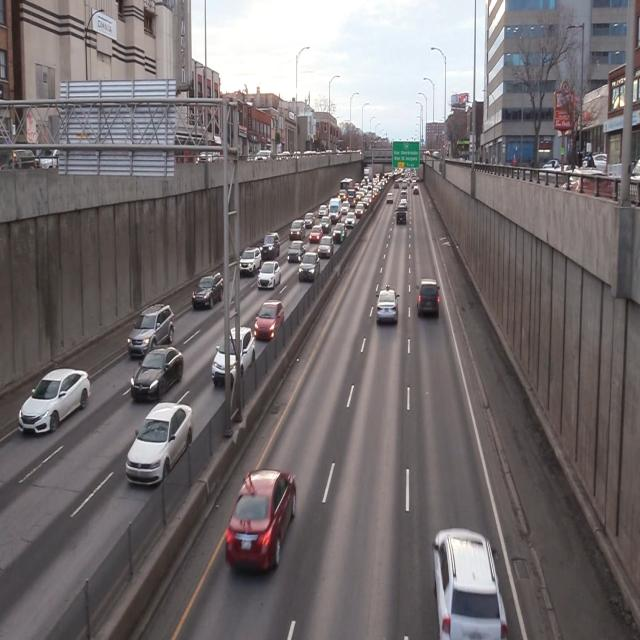Car: (431, 528, 508, 640), (225, 467, 298, 576), (125, 402, 196, 492), (20, 366, 90, 442), (130, 346, 186, 402), (130, 300, 176, 362), (212, 327, 256, 388), (250, 295, 286, 343), (193, 270, 224, 315), (416, 274, 442, 322), (378, 287, 400, 325), (258, 255, 283, 287), (241, 244, 262, 276), (300, 251, 321, 282)
